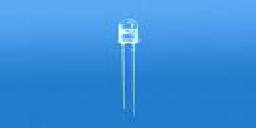LED: (116, 16, 143, 119)
